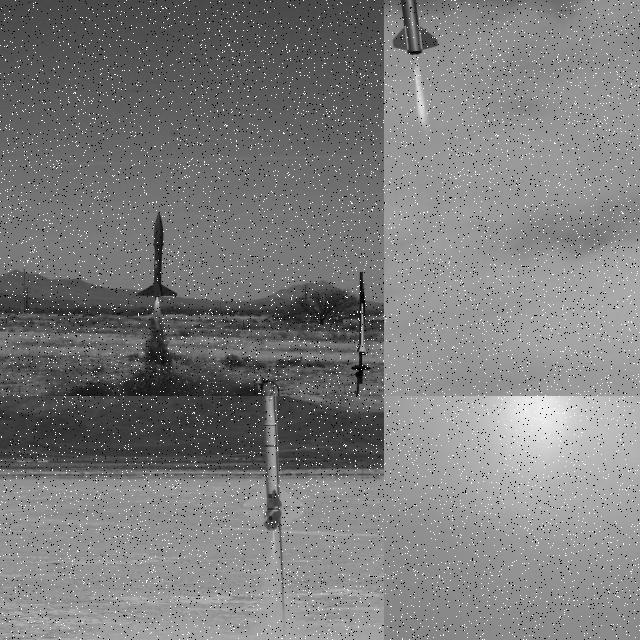Rocket: (242, 396, 305, 530), (136, 212, 178, 298), (384, 0, 439, 55), (355, 290, 367, 353)
